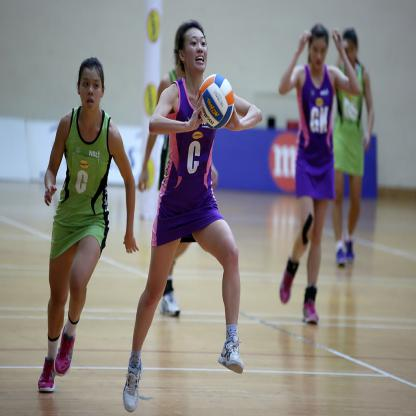Ball: (199, 73, 234, 128)
